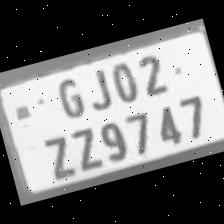0: (103, 56, 142, 107)
2: (131, 49, 170, 100)
4: (146, 97, 185, 148)
7: (171, 89, 210, 143), (119, 106, 158, 158)
9: (92, 114, 130, 164)
G: (50, 70, 90, 120)
J: (78, 63, 116, 113)
Z: (36, 128, 78, 184), (64, 121, 102, 174)
